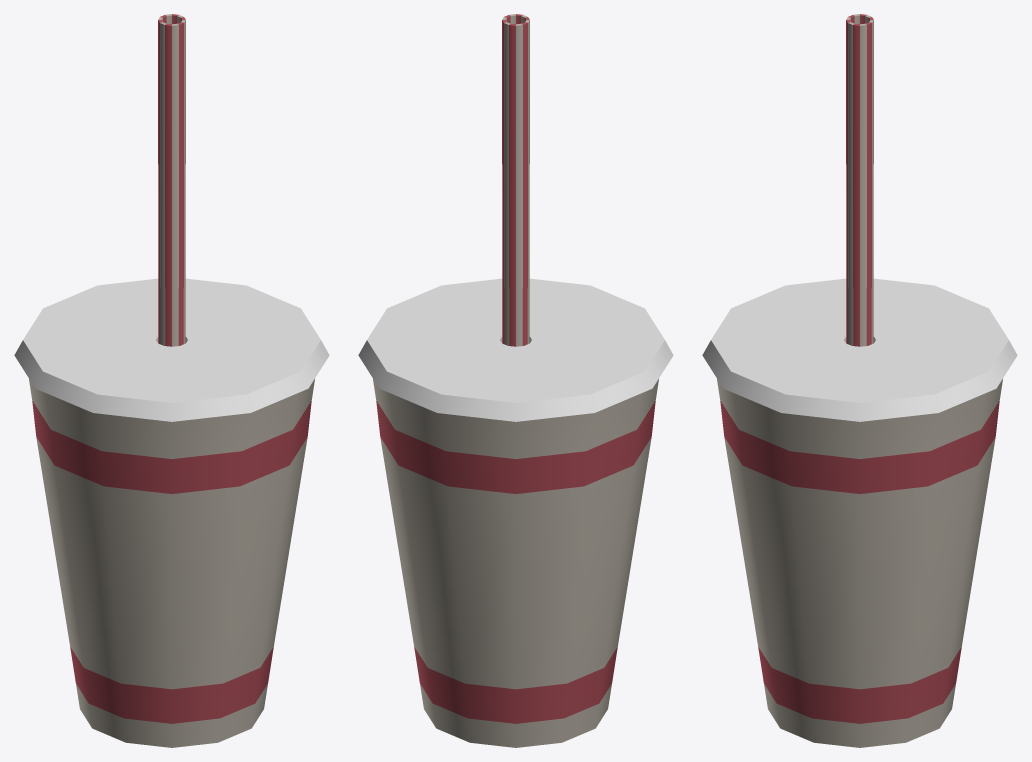
The model's file is Shake_03.fbx.
3 renders of one model, left to right at view 1: azimuth 30°, elevation 25°; view 2: azimuth 150°, elevation 25°; view 3: azimuth 270°, elevation 25°, orthographic.
Visible parts, largest first — view 1: Shake_03; view 2: Shake_03; view 3: Shake_03.
Boxes of the visible parts, box(x1,y1,x2,y2) form: Shake_03: box(14, 14, 329, 747); Shake_03: box(358, 14, 673, 747); Shake_03: box(702, 14, 1017, 747).
Bounding box in the file's own units: 0.1165 × 0.2809 × 0.1165.
